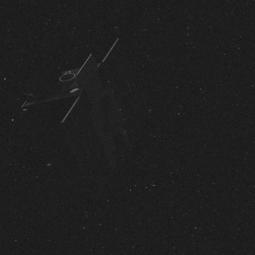proba_2: (31, 53, 129, 164)
